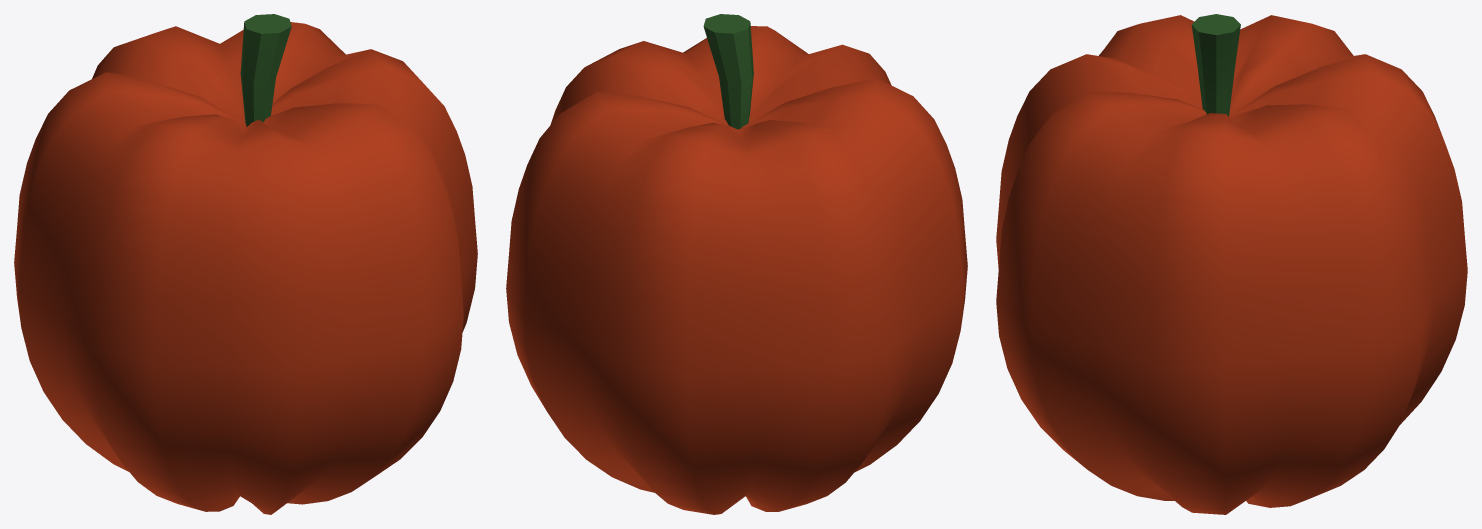
Rendered from paprika2.fbx.
3 views of the same model, side by side, from view 1: azimuth 30°, elevation 25°; view 2: azimuth 150°, elevation 25°; view 3: azimuth 270°, elevation 25° (orthographic). The views are drawn at different scales.
Parts seen in each view (by area): view 1: pSphere46, pCylinder13; view 2: pSphere46, pCylinder13; view 3: pSphere46, pCylinder13.
Boxes of the visible parts, box(x1,y1,x2,y2) form: pSphere46: box(14, 22, 477, 514); pCylinder13: box(240, 14, 291, 126); pSphere46: box(506, 26, 967, 514); pCylinder13: box(703, 14, 753, 129); pSphere46: box(996, 15, 1467, 514); pCylinder13: box(1191, 14, 1240, 116).
Size of the model in its own units: 1.63 by 1.84 by 1.66.
